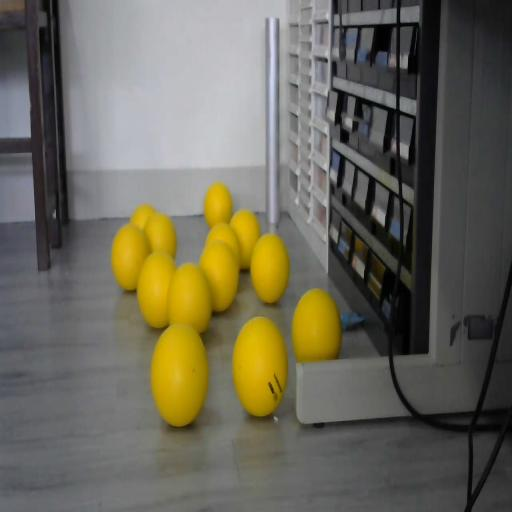FUEL: (150, 323, 208, 425), (232, 315, 288, 417), (292, 288, 342, 363), (166, 263, 212, 335), (136, 251, 178, 329), (199, 239, 240, 313), (250, 232, 290, 304), (111, 224, 149, 292), (229, 209, 261, 270), (204, 222, 241, 270), (144, 212, 178, 260), (204, 182, 233, 228), (130, 204, 157, 233)
